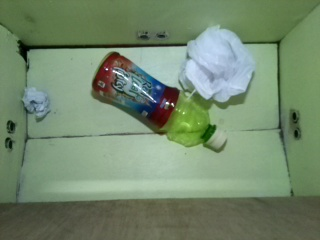bottle: (91, 50, 228, 153)
paper: (22, 86, 52, 121)
plastic-bag: (178, 24, 256, 104)
